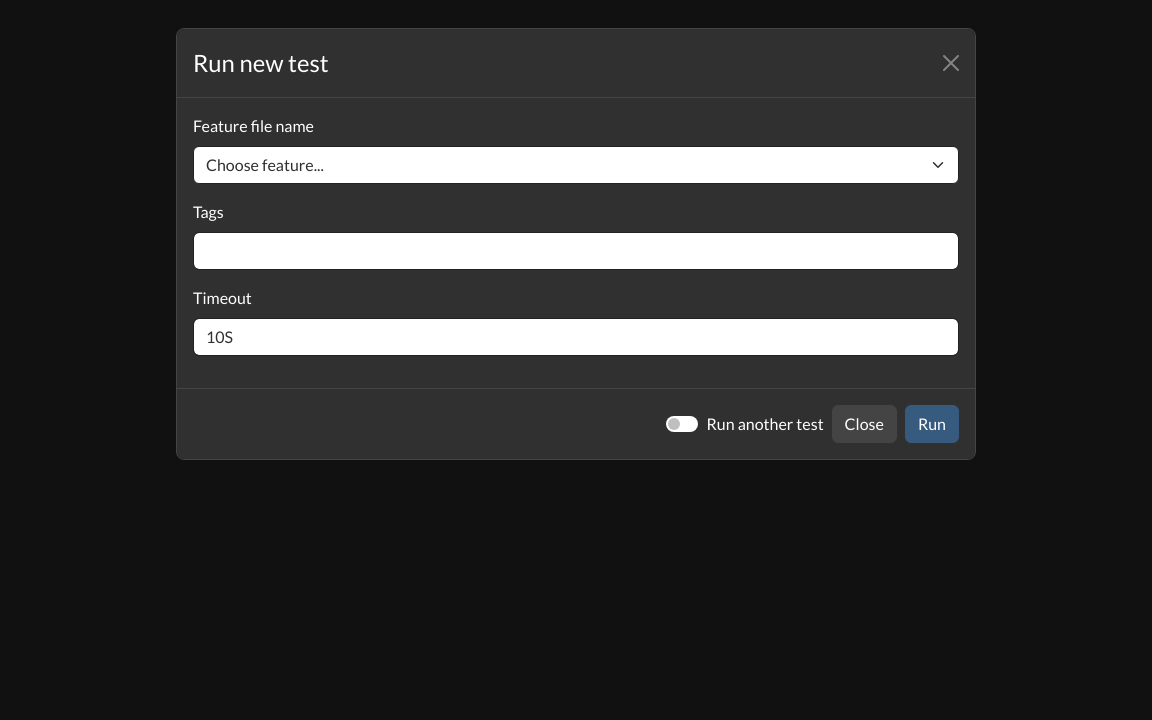
Scenario: Run Test Window tests › test actions
Select "test.feature" in the dropdown with test id "select-feature" at (576,165), box [193,146,959,184]
Type "@TEST" into the field with test id "input-tags".
click(576, 251); type("@TEST")  # box [193,232,959,270]
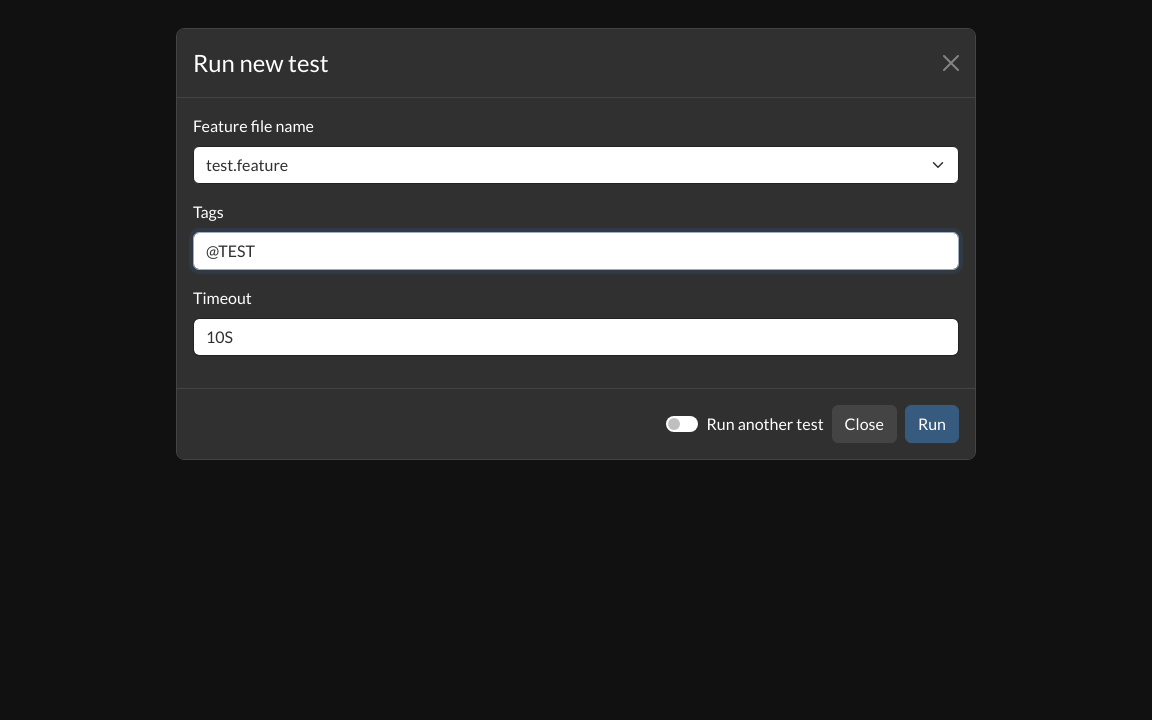
Replace the text in the field with test id "input-timeout" with "20s" at (576,337), box [193,318,959,356]
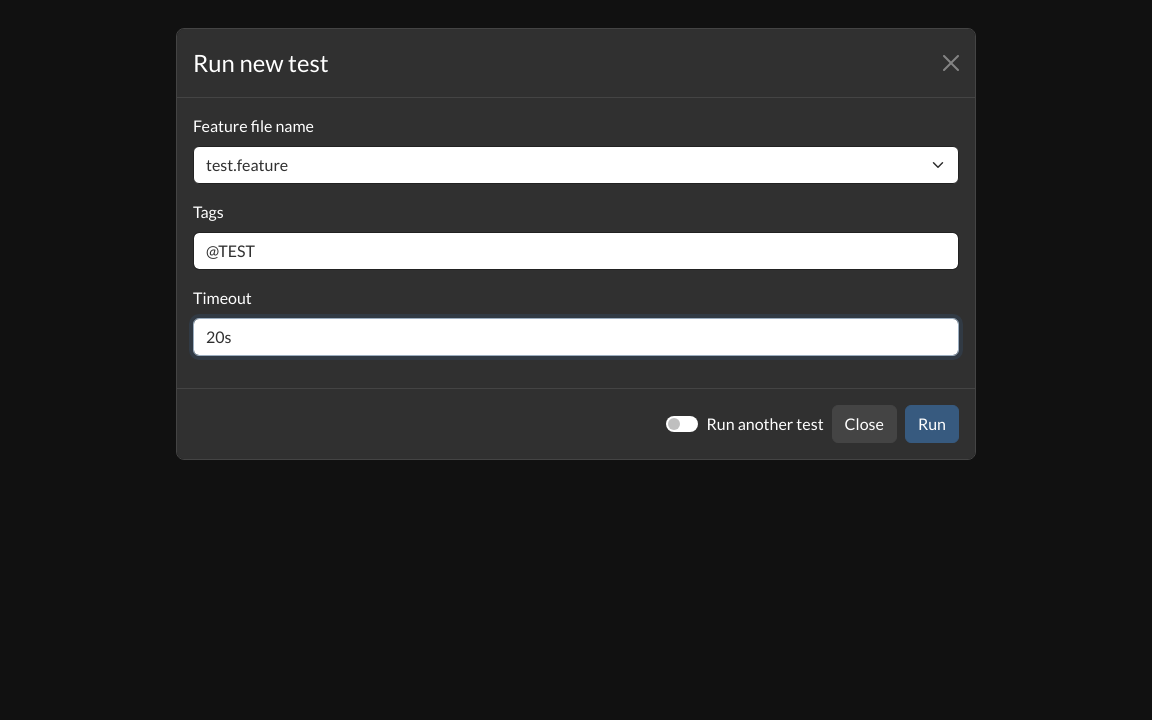
Click the checkbox with test id "run-another-test".
click(682, 424)  # box [666,416,698,432]
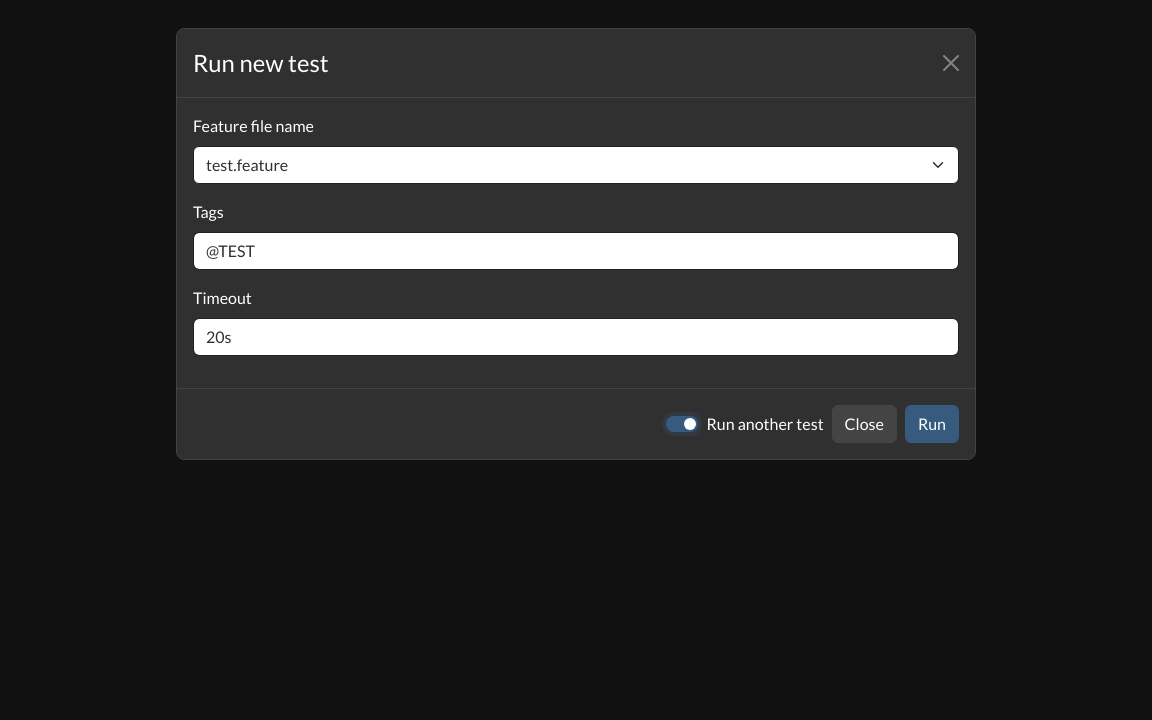
Click the button with test id "button-run".
click(932, 424)  # box [905,405,959,443]
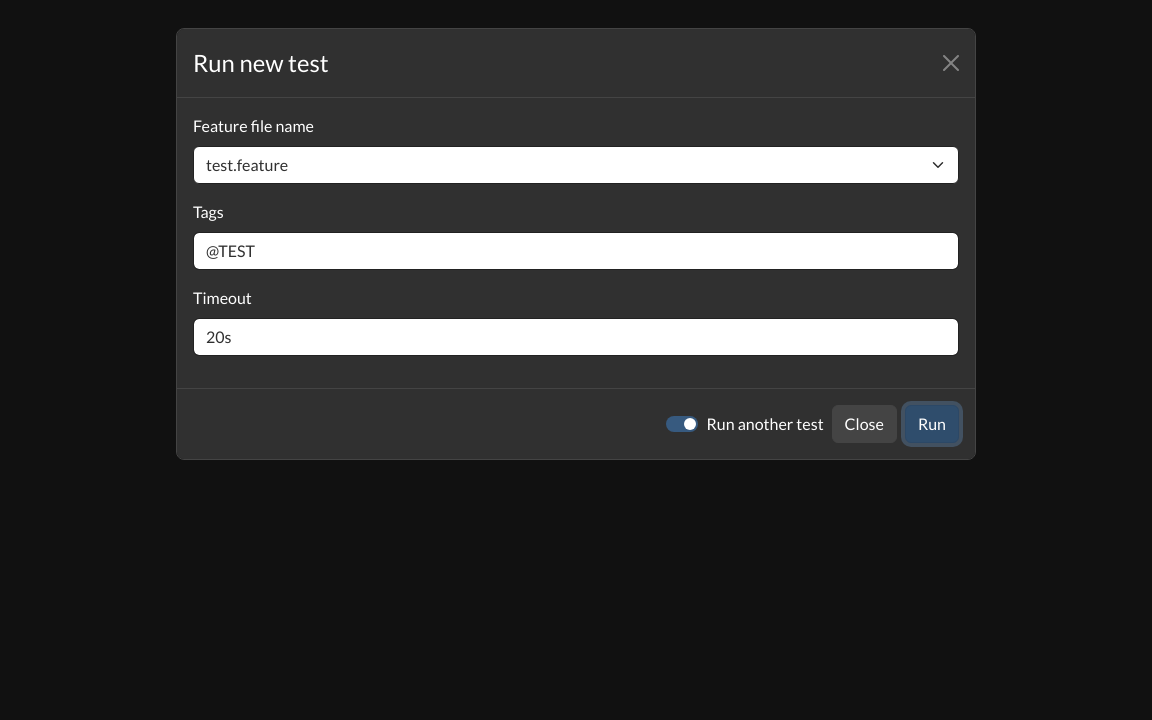
Click the checkbox with test id "run-another-test".
click(682, 424)  # box [666,416,698,432]
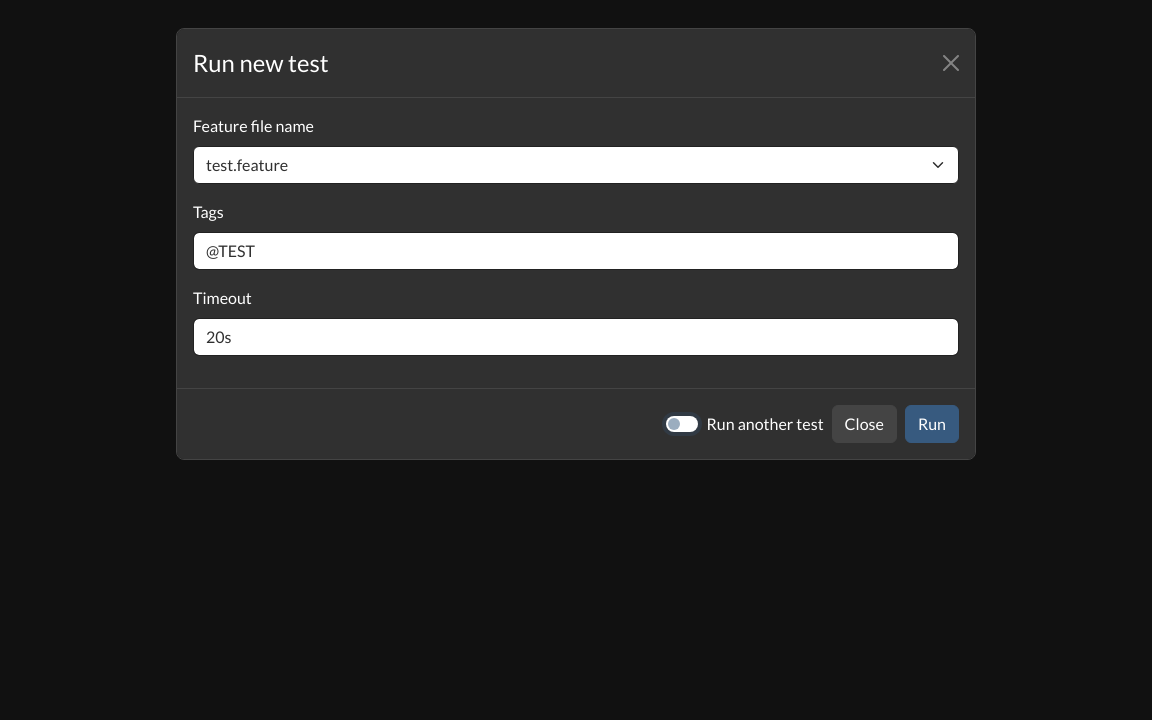
Click the button with test id "button-run".
click(932, 424)  # box [905,405,959,443]
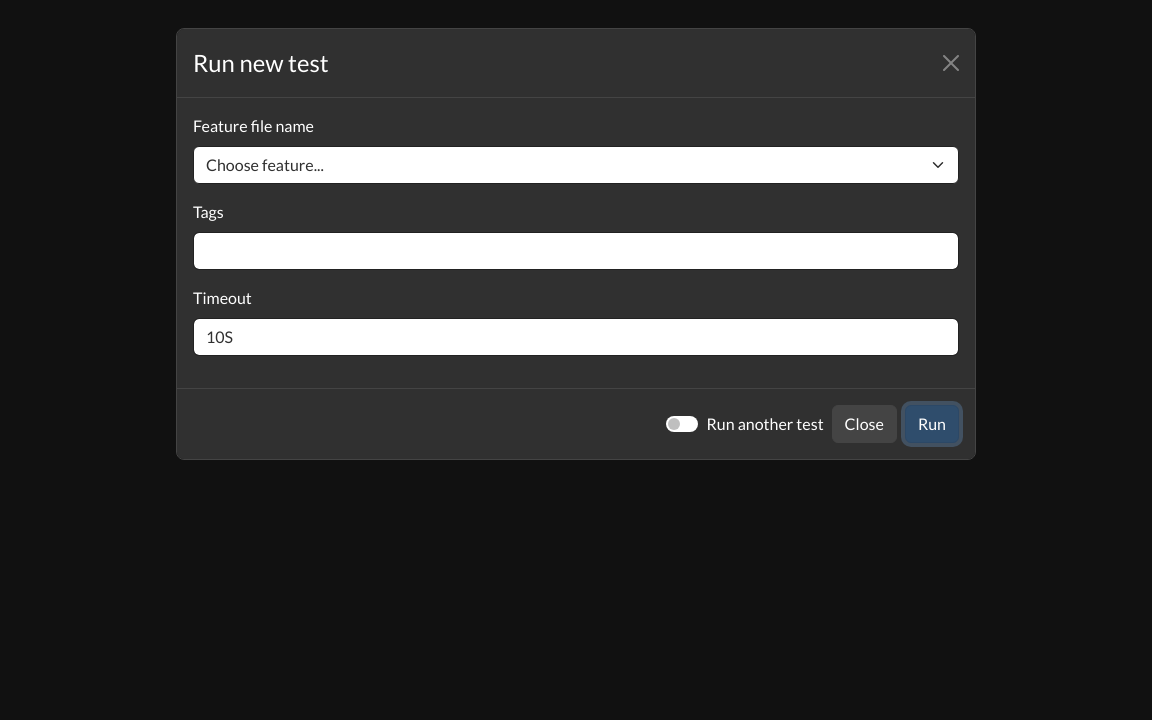
Expected: the field with test id "input-tags" is empty, [193,232,959,270]
Expected: the field with test id "input-timeout" holds "10S", [193,318,959,356]
